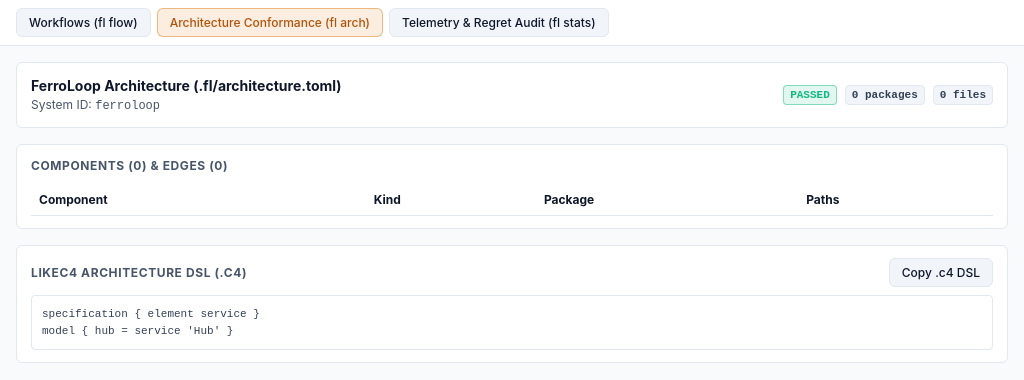
Test: Track D UI Follow-ups — Wave C F-3 & FerroDeck UI Audit O-3, O-4, O-6 › FerroDeck UI Audit O-6 — HubDrawer Copy Timeout Cleanup & RichMarkdown Domain Badge › clears the 1.8s C4 DSL copy-status timeout when HubDrawer unmounts
This screenshot has width=1024, height=380.
Click the button "Copy .c4 DSL".
click(941, 272)  # box [889,258,993,287]
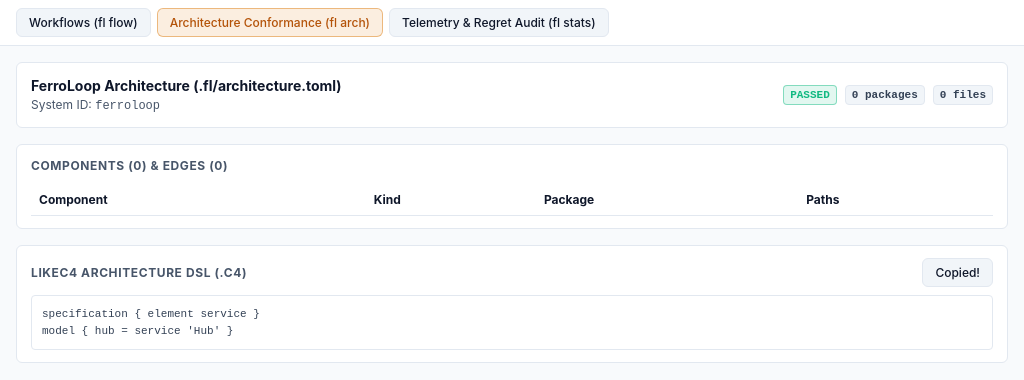
Expected: the button "Copied!" is shown, [922,258,993,287]
